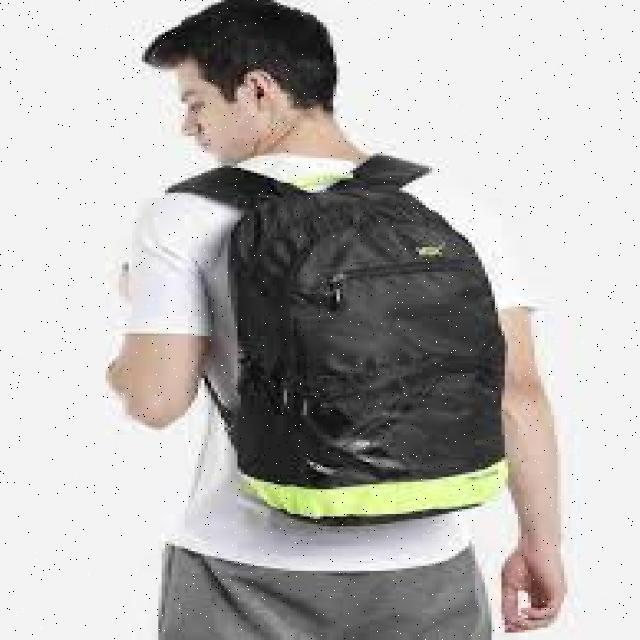backpack: (162, 153, 508, 524)
